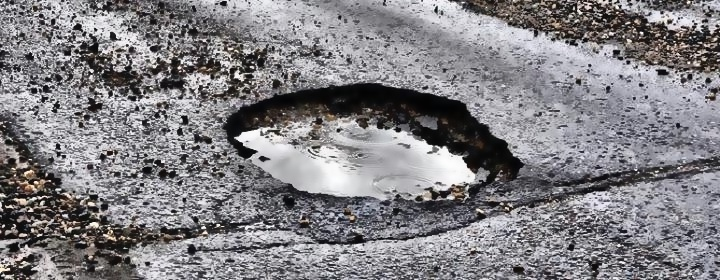pothole: (217, 78, 529, 202)
